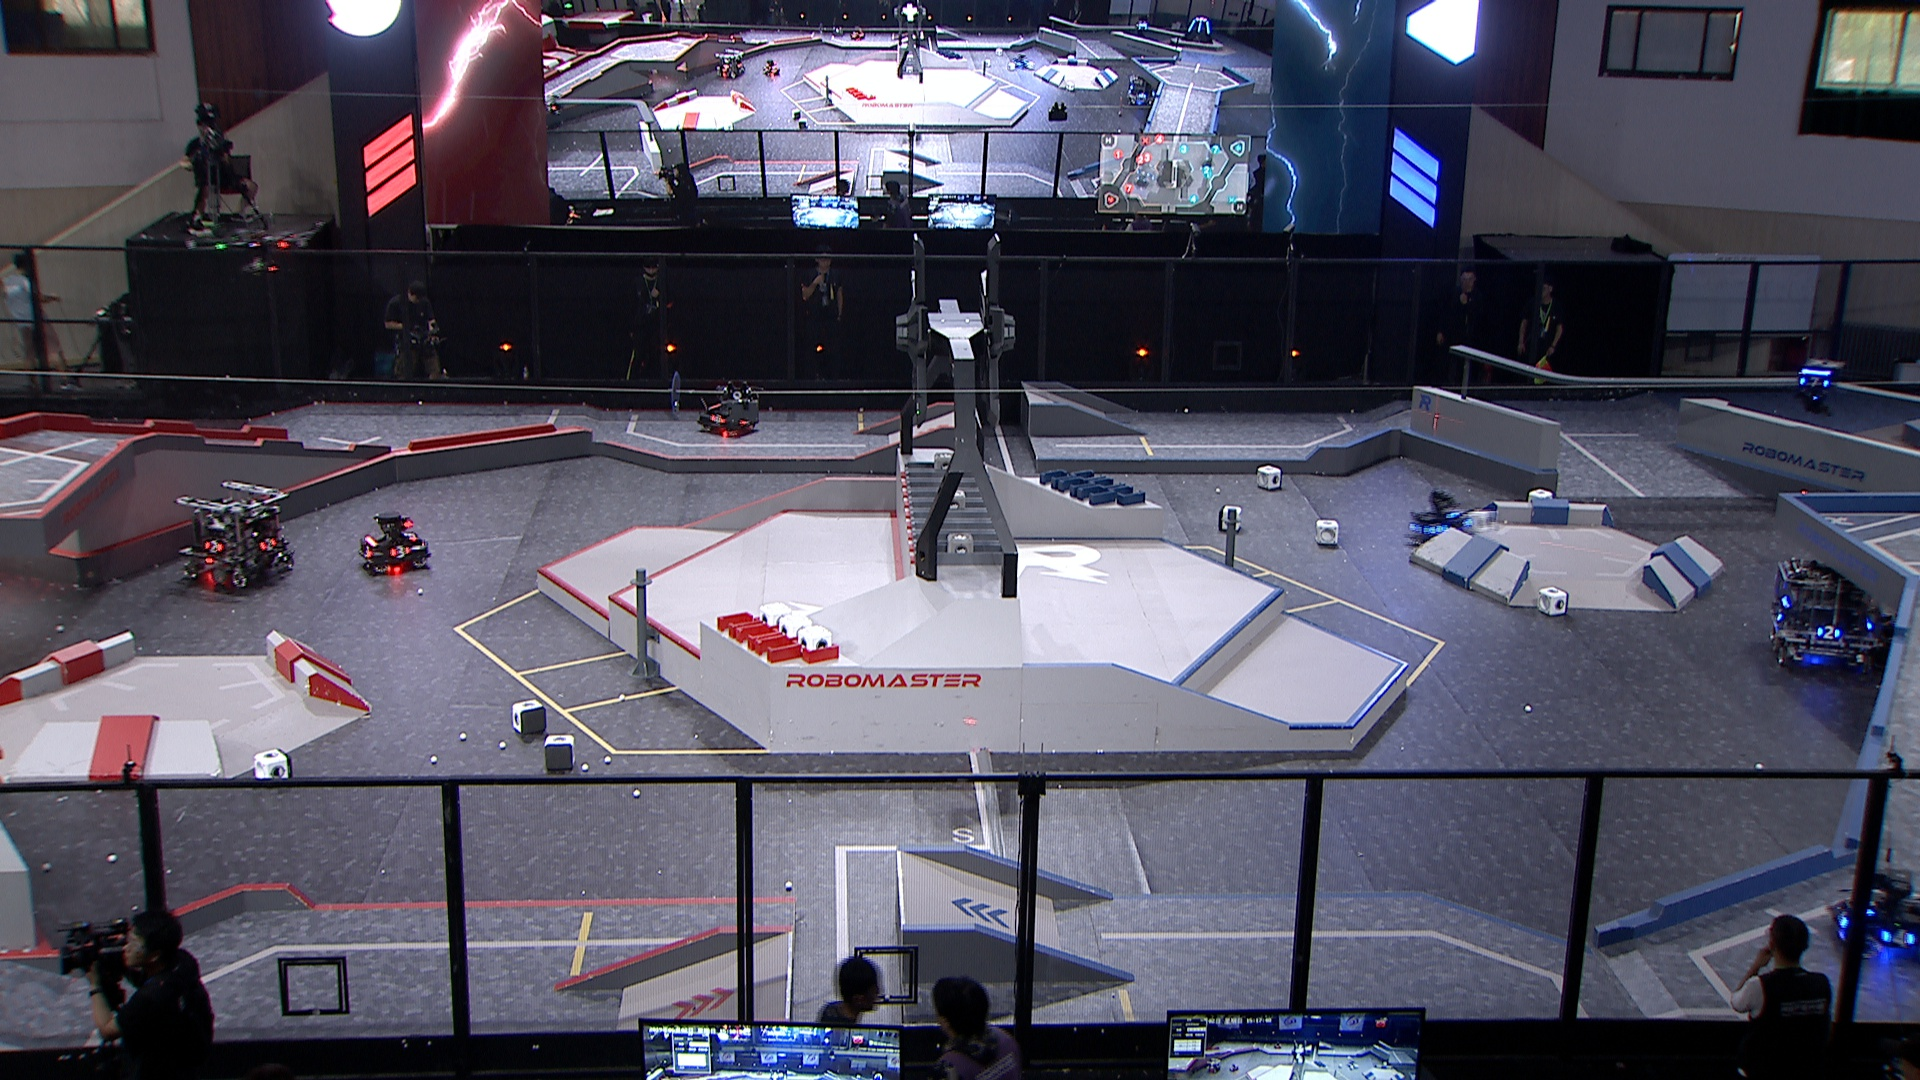armor: (1882, 926, 1920, 949), (1815, 622, 1844, 641), (1799, 375, 1832, 389), (200, 538, 225, 556), (386, 543, 411, 559), (257, 535, 277, 553), (1422, 522, 1447, 534), (400, 529, 419, 542), (359, 543, 372, 559), (711, 413, 727, 425)
car: (173, 480, 294, 595), (1770, 556, 1884, 676), (1832, 869, 1920, 963), (357, 510, 433, 575), (1408, 493, 1474, 551), (698, 386, 756, 436)
ignore: (1178, 16, 1218, 44), (712, 45, 746, 78), (1125, 73, 1156, 105), (539, 91, 564, 116)
watcher: (1793, 356, 1842, 414)
